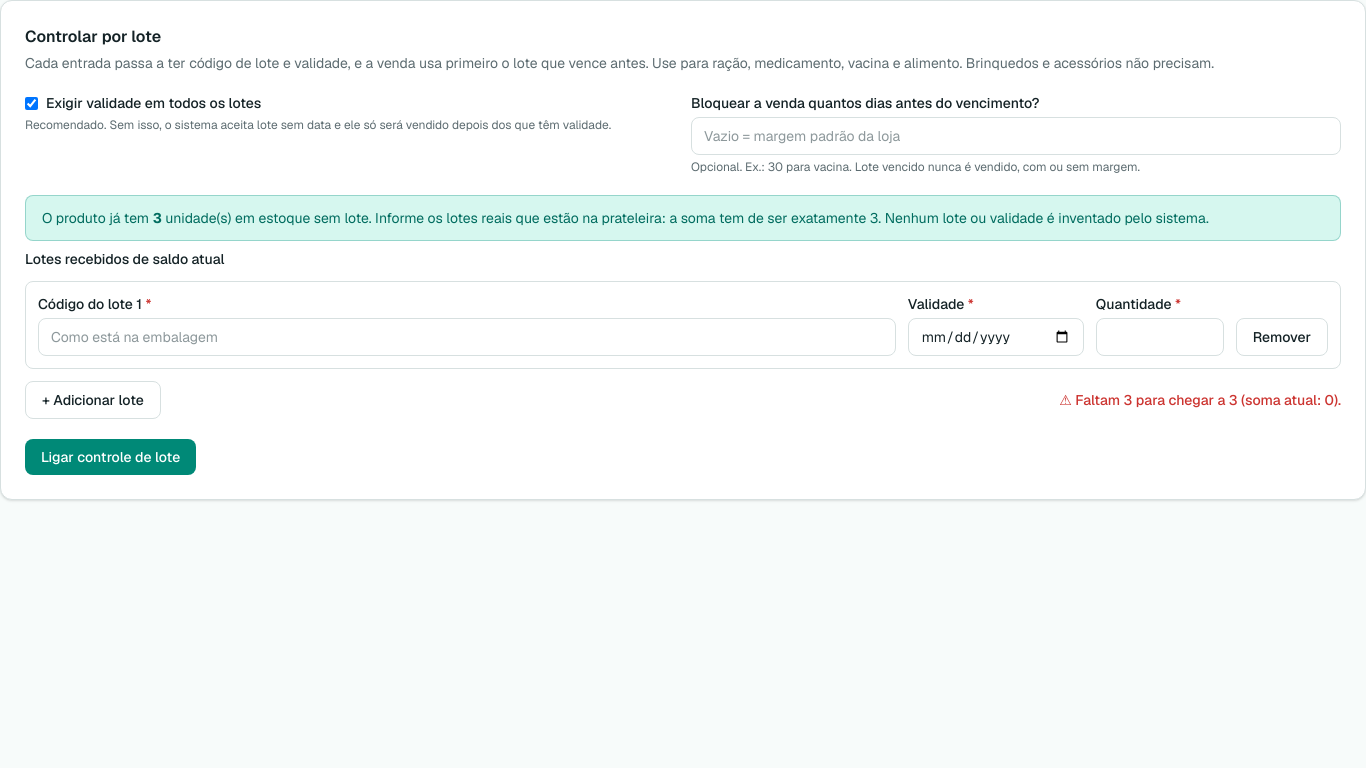
aba Lotes do produto › lote sem validade só passa se o operador desmarcar 'Exigir validade'
Type "SEM" into the field labelled "Código do lote 1 *" at (467,337), box top-left (38, 318), bottom-right (896, 356)
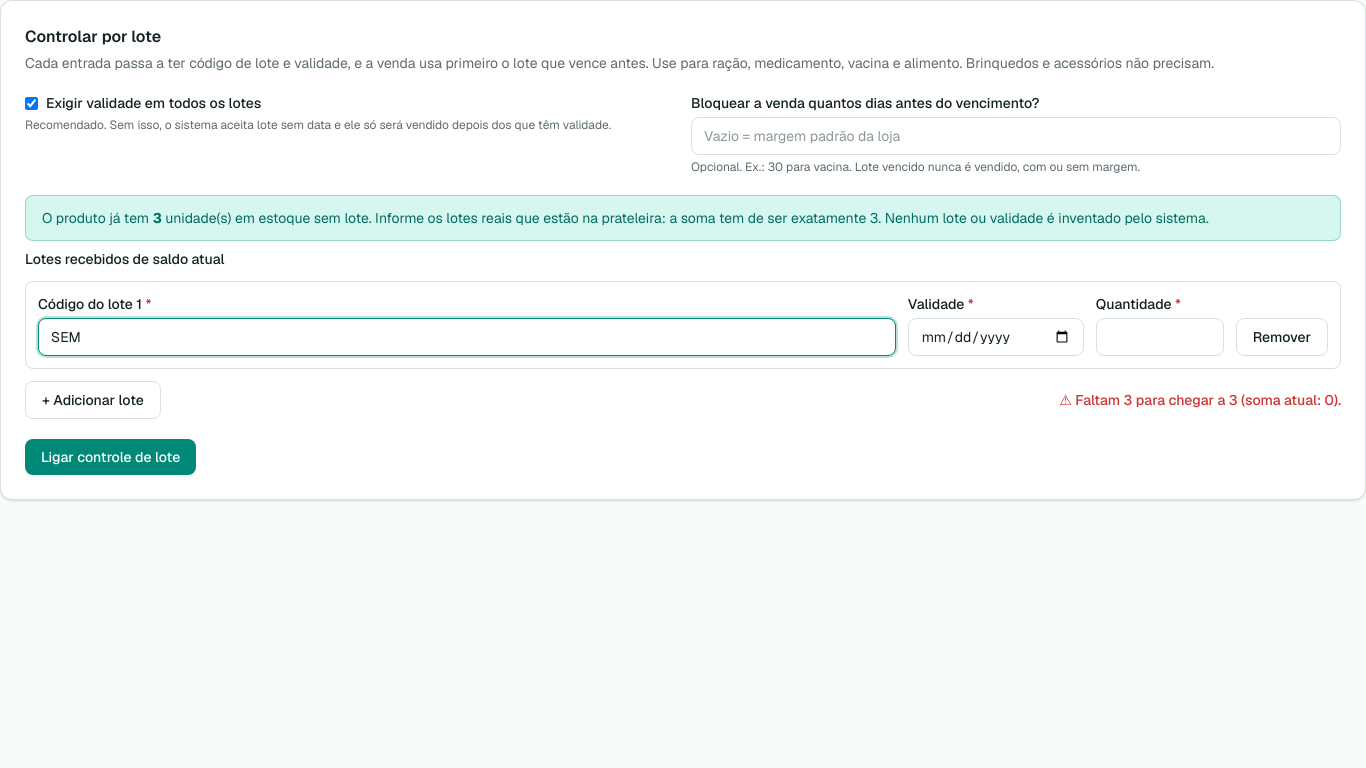
Type "3" into the field labelled "Quantidade *" at (1160,337), box top-left (1096, 318), bottom-right (1224, 356)
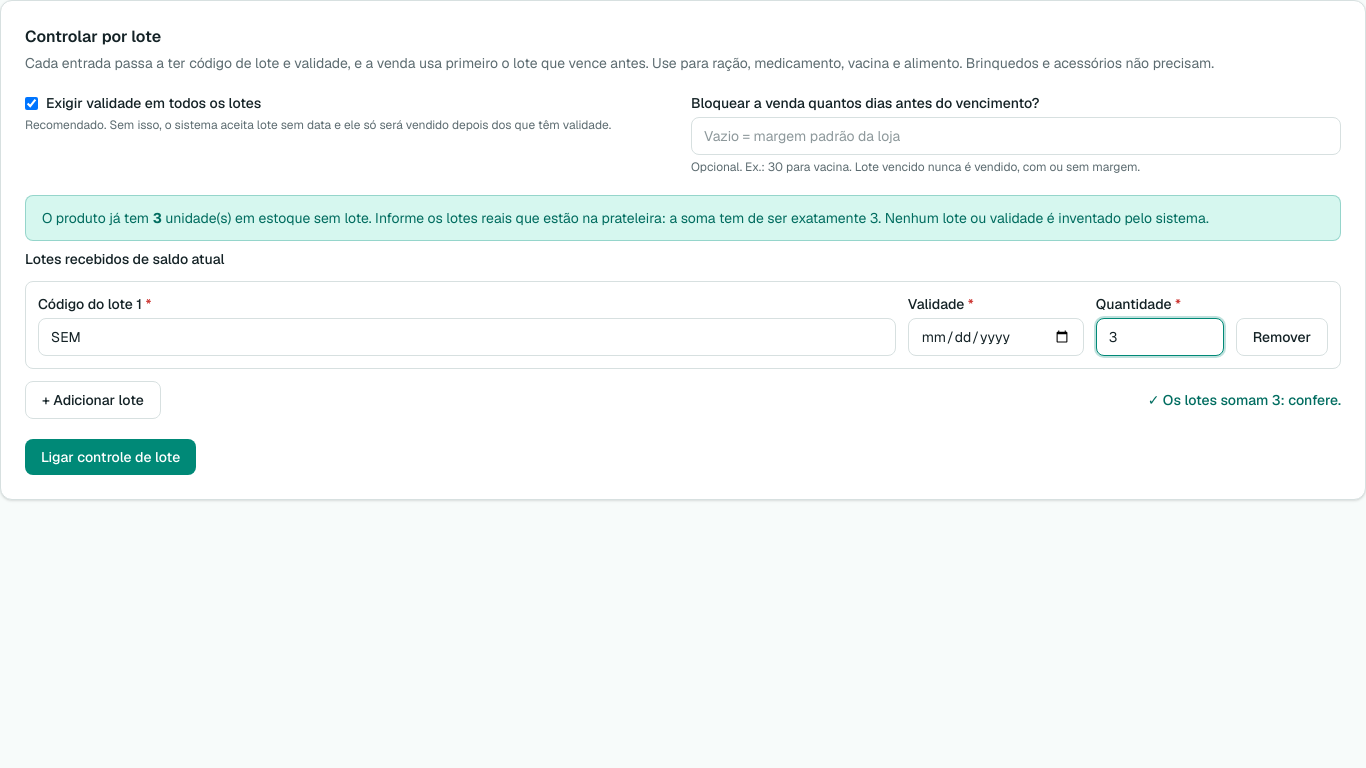
Click the button "Ligar controle de lote" at (111,457), box top-left (25, 439), bottom-right (196, 475)
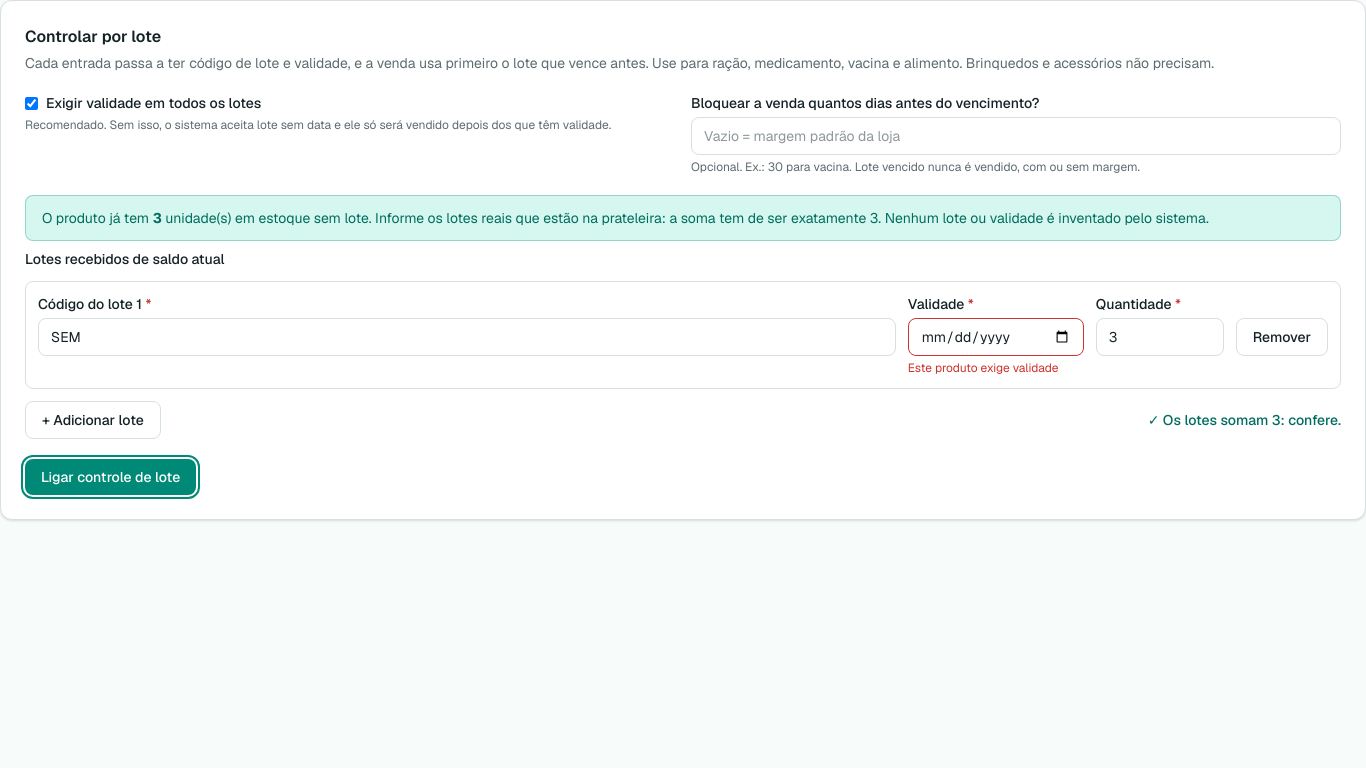
Check: the text "Este produto exige validade" is shown, box top-left (908, 360), bottom-right (1084, 376)
Click the checkbox labelled "Exigir validade em todos os lotes" at (32,104), box top-left (25, 97), bottom-right (38, 110)
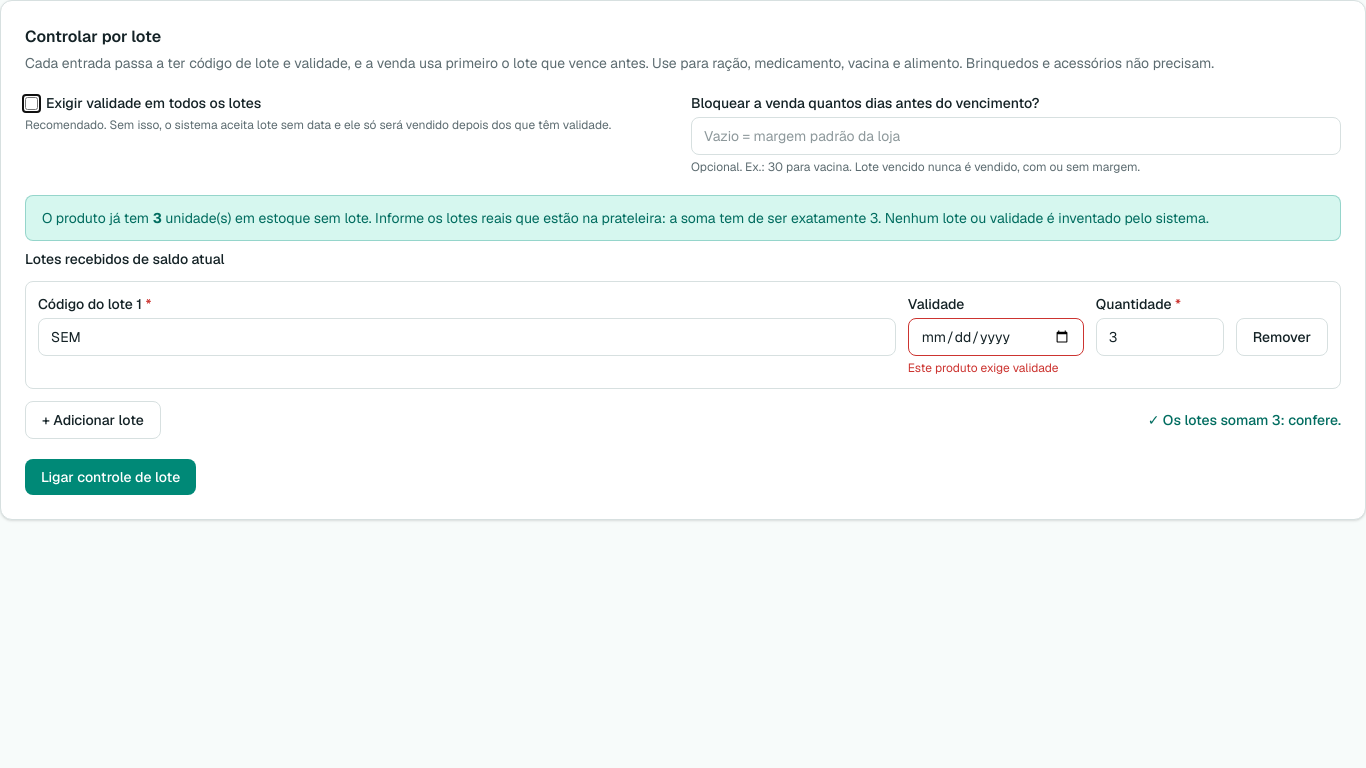
Click the button "Ligar controle de lote" at (111,477), box top-left (25, 459), bottom-right (196, 495)
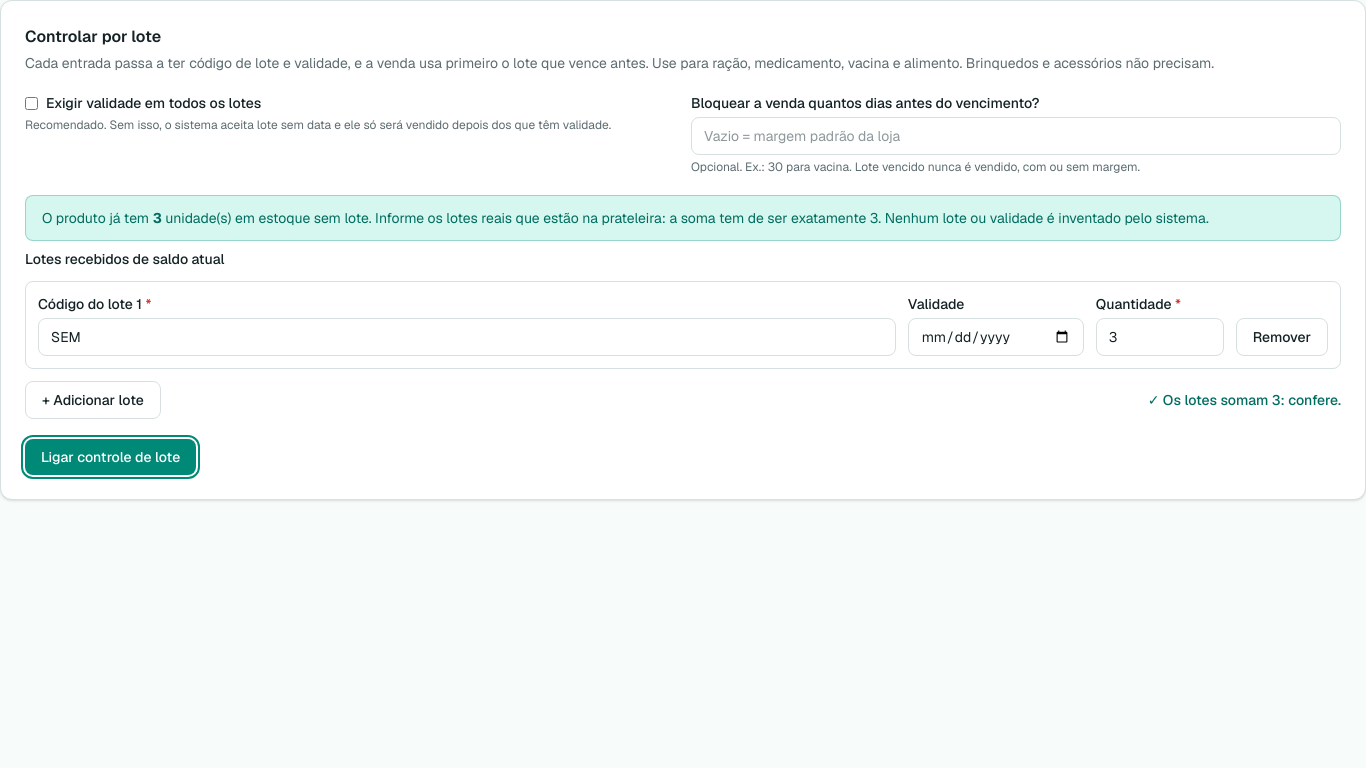
Check: the text "Este produto exige validade" is gone
